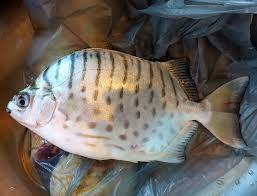Scat Fish: (6, 46, 253, 167)
